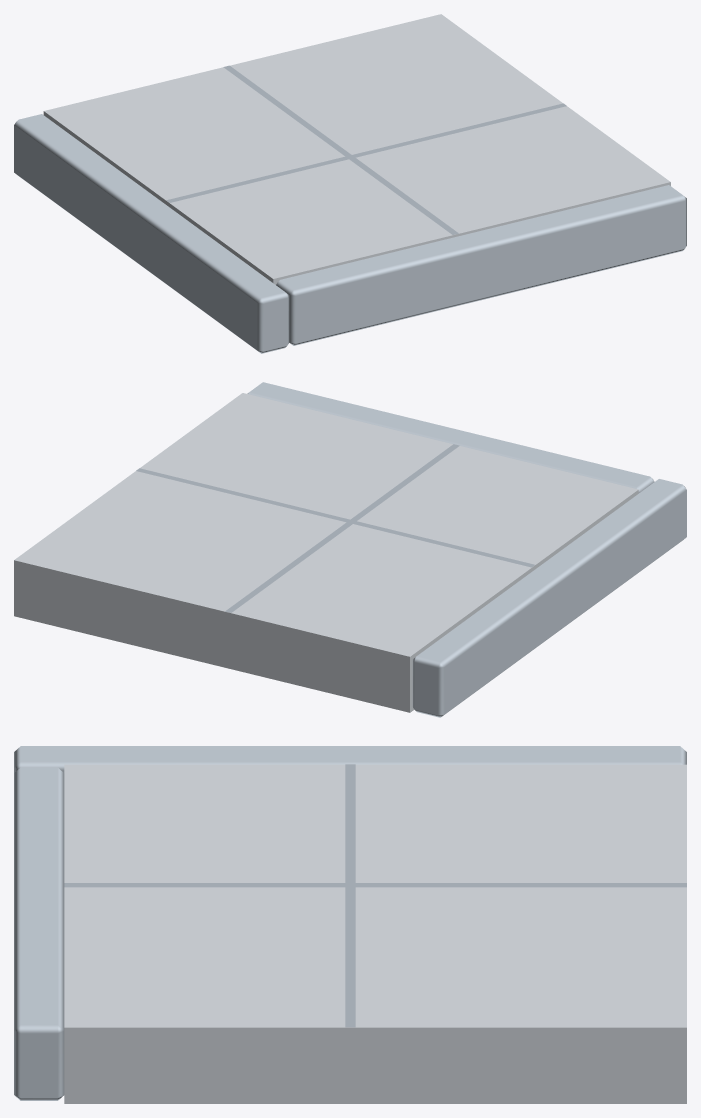
File: CM_Sidewalk_Corner.fbx
3 renders of one model, top to bottom at view 1: azimuth 30°, elevation 25°; view 2: azimuth 150°, elevation 25°; view 3: azimuth 270°, elevation 25°, orthographic. The views are drawn at different scales.
Parts seen in each view (by area): view 1: Sidewalk; view 2: Sidewalk; view 3: Sidewalk.
Part boxes in pixels (x1,y1,x2,y2): Sidewalk: [14, 14, 686, 353]; Sidewalk: [14, 382, 686, 717]; Sidewalk: [14, 746, 686, 1103].
Bounding box in the file's own units: 8 × 8 × 1.
Materials: 1 (1 with a texture image).
